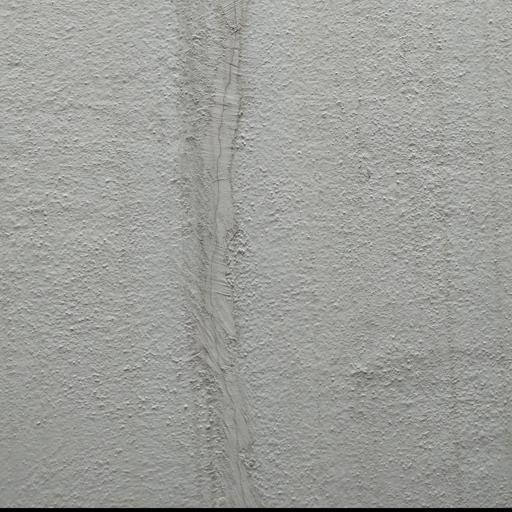minor_crack: (175, 0, 267, 512)
